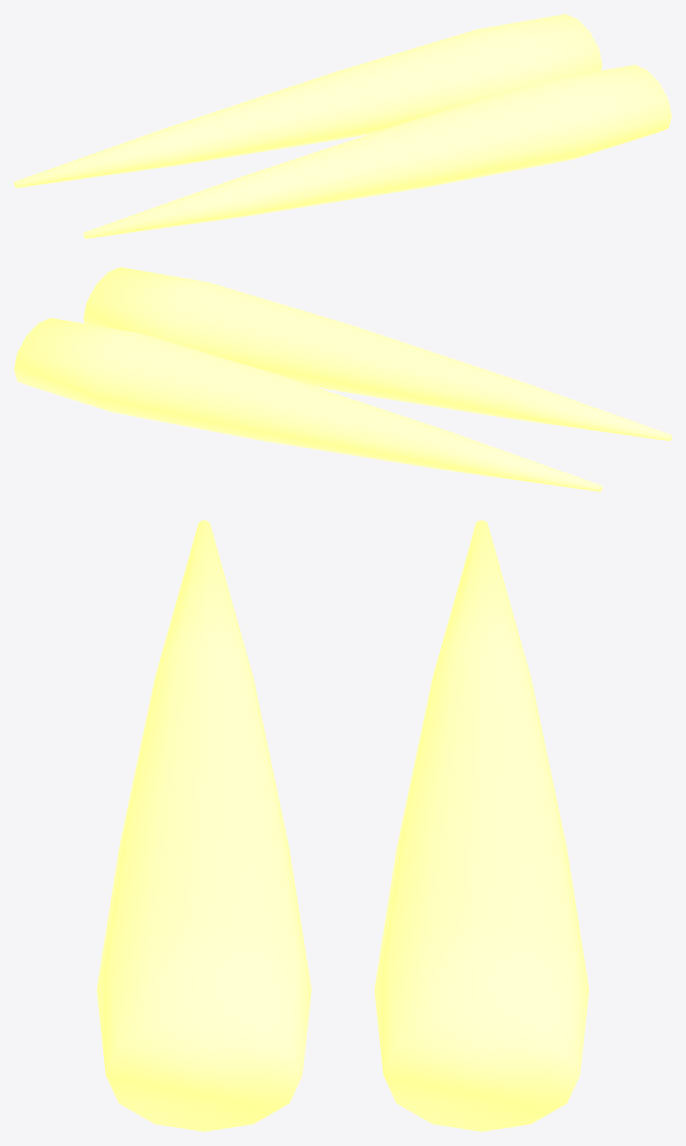
The model's file is SM_Afterburner_Plume.fbx.
3 renders of one model, top to bottom at view 1: azimuth 30°, elevation 25°; view 2: azimuth 150°, elevation 25°; view 3: azimuth 270°, elevation 25°, orthographic. The views are drawn at different scales.
Visible parts, largest first — view 1: SM_Afterburner_Plume; view 2: SM_Afterburner_Plume; view 3: SM_Afterburner_Plume.
Boxes of the visible parts, box(x1,y1,x2,y2) form: SM_Afterburner_Plume: box(14, 14, 671, 238); SM_Afterburner_Plume: box(14, 267, 671, 491); SM_Afterburner_Plume: box(96, 520, 589, 1131).
Bounding box in the file's own units: 5.8 × 2.2 × 0.68.
